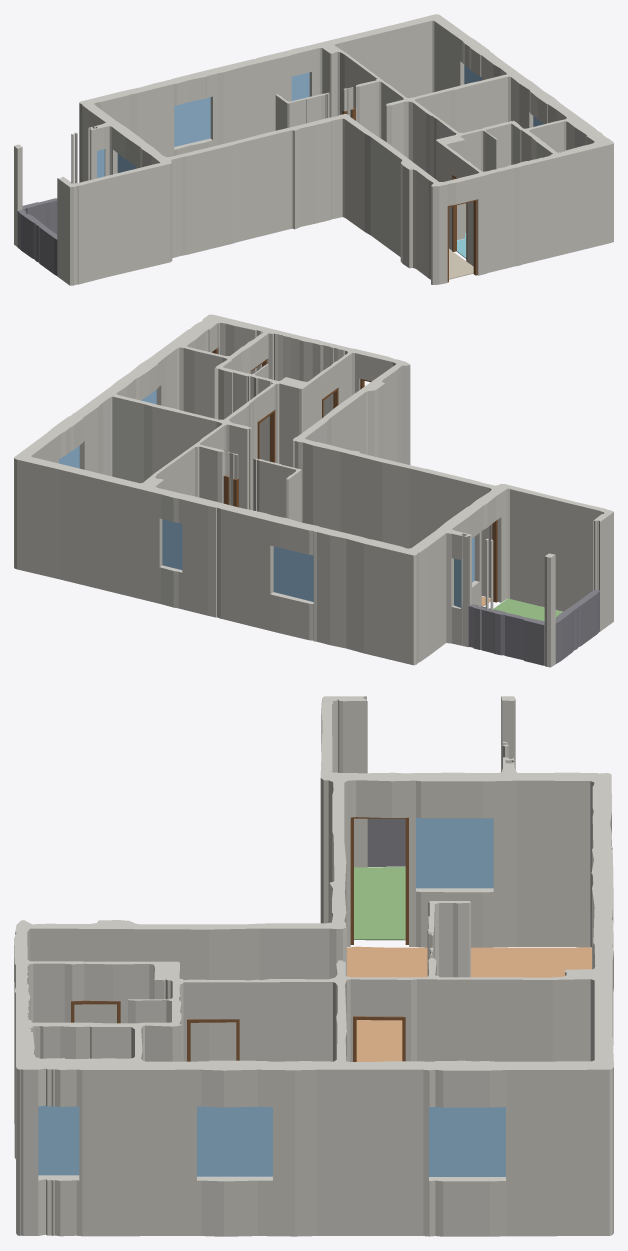
3 renders of one model, top to bottom at view 1: azimuth 30°, elevation 25°; view 2: azimuth 150°, elevation 25°; view 3: azimuth 270°, elevation 25°, orthographic. The views are drawn at different scales.
Visible parts, largest first — view 1: walls, railings, window_10, door_8, floor_6_Entry, window_9; view 2: walls, railings, window_10, window_9, floor_0_Outdoor; view 3: walls, floor_2_Living_Room, window_13, window_12, window_14, floor_0_Outdoor, window_15, railings, door_2.
Part boxes in pixels (box(x1,y1,x2,y2)): walls: box(14, 14, 613, 285); railings: box(17, 198, 57, 275); window_10: box(174, 97, 210, 146); door_8: box(447, 199, 477, 282); floor_6_Entry: box(449, 249, 473, 279); window_9: box(291, 72, 309, 100); walls: box(14, 314, 613, 667); railings: box(462, 590, 599, 665); window_10: box(273, 546, 313, 601); window_9: box(162, 519, 182, 569); floor_0_Outdoor: box(493, 598, 562, 621); walls: box(14, 696, 613, 1236); floor_2_Living_Room: box(347, 946, 591, 1061); window_13: box(416, 817, 493, 888); window_12: box(429, 1106, 505, 1176); window_14: box(197, 1106, 272, 1176); floor_0_Outdoor: box(354, 867, 405, 940); window_15: box(38, 1105, 79, 1175); railings: box(367, 818, 405, 866); door_2: box(350, 817, 408, 944).
Size of the model in its own units: 13.06 by 2.72 by 8.83.
